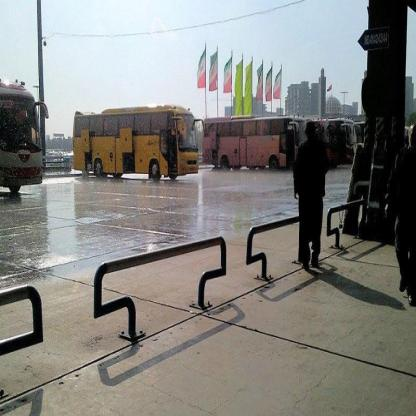Bus: (73, 94, 199, 184), (200, 107, 306, 173), (0, 80, 48, 196), (303, 116, 358, 162)
